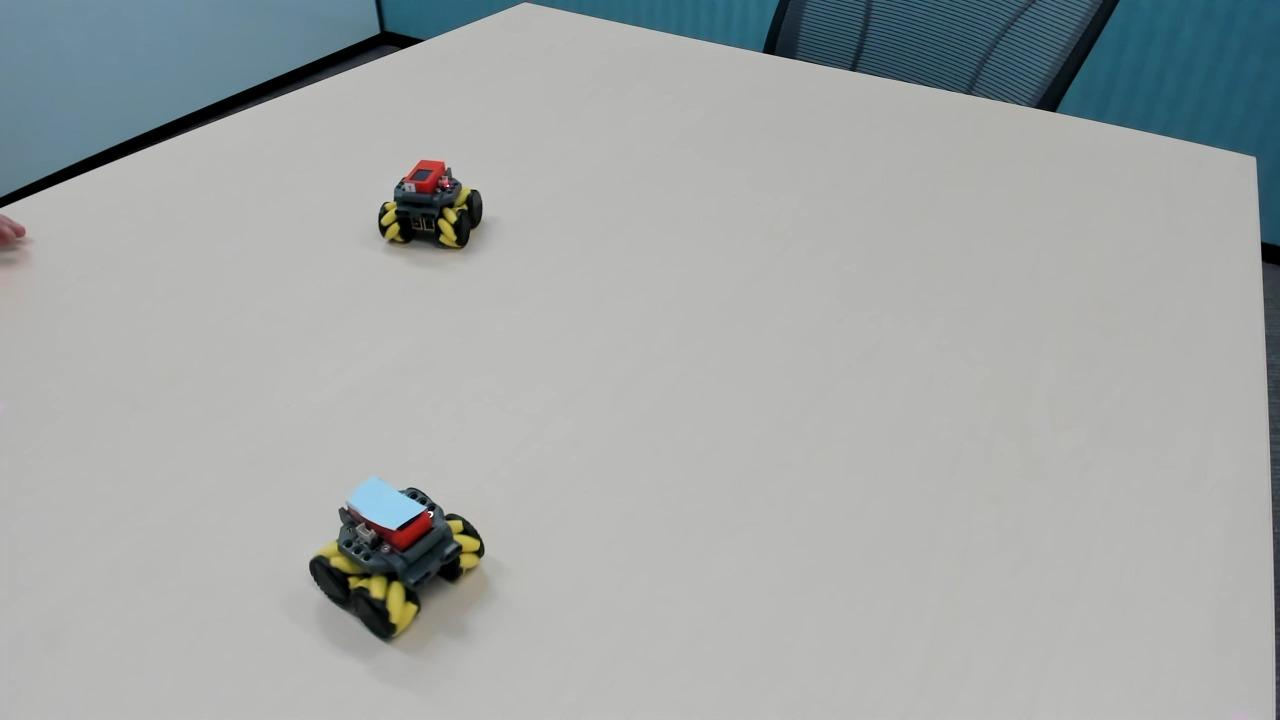B-Robot: (291, 468, 496, 652)
R-Robot: (370, 141, 498, 270)
